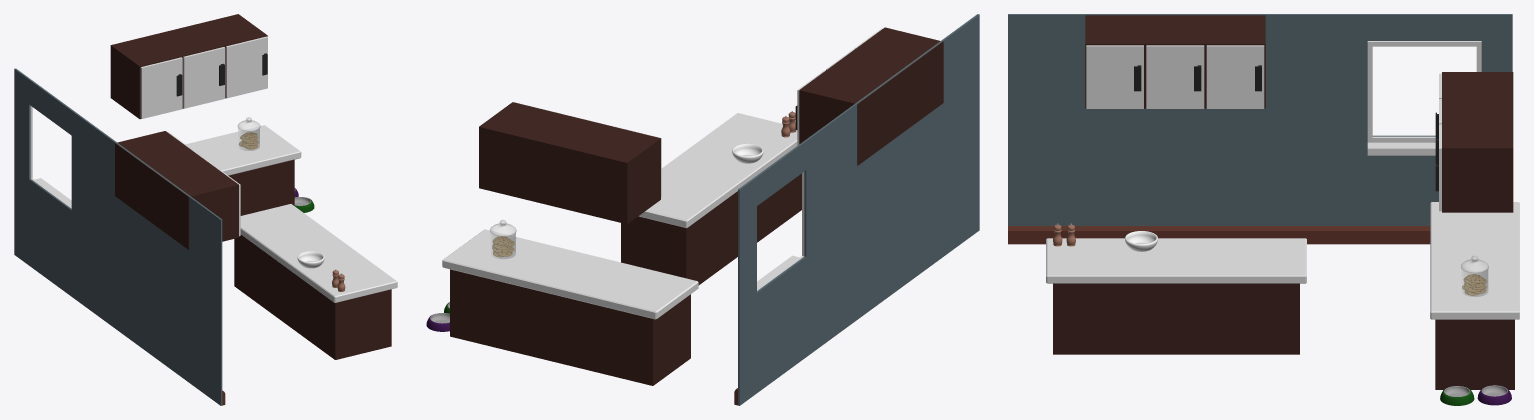
File: KITCHEN SCENE.fbx
The picture shows the model from 3 angles, left to right: view 1: azimuth 30°, elevation 25°; view 2: azimuth 150°, elevation 25°; view 3: azimuth 270°, elevation 25°; orthographic projection. The views are drawn at different scales.
Visible parts, largest first — view 1: Wall, Counter, Cube.002, Cube.001, Counter.001, Cube.004, Cylinder; view 2: Wall, Counter.001, Counter, Cube.002, Cube.001, Cube.004, Cylinder; view 3: Wall, Counter, Cube.001, Counter.001, Cube.002, Cat bowls, Cube.004, Cylinder.
Boxes of the visible parts, box(x1,y1,x2,y2) form: Wall: box(14, 68, 225, 405); Counter: box(234, 204, 397, 359); Cube.002: box(110, 14, 267, 119); Cube.001: box(115, 131, 240, 249); Counter.001: box(186, 125, 301, 215); Cube.004: box(237, 117, 260, 150); Cylinder: box(297, 251, 324, 268); Wall: box(734, 14, 979, 405); Counter.001: box(442, 229, 698, 385); Counter: box(621, 113, 801, 285); Cube.002: box(479, 102, 661, 224); Cube.001: box(795, 27, 943, 165); Cube.004: box(489, 220, 516, 258); Cylinder: box(732, 143, 763, 163); Wall: box(1008, 14, 1512, 244); Counter: box(1046, 238, 1306, 354); Cube.001: box(1085, 15, 1265, 108); Counter.001: box(1430, 202, 1519, 389); Cube.002: box(1435, 72, 1513, 212); Cat bowls: box(1440, 385, 1511, 405); Cube.004: box(1460, 255, 1488, 296); Cylinder: box(1125, 231, 1157, 251).
Bounding box in the file's own units: 3086 × 1988 × 4054.
